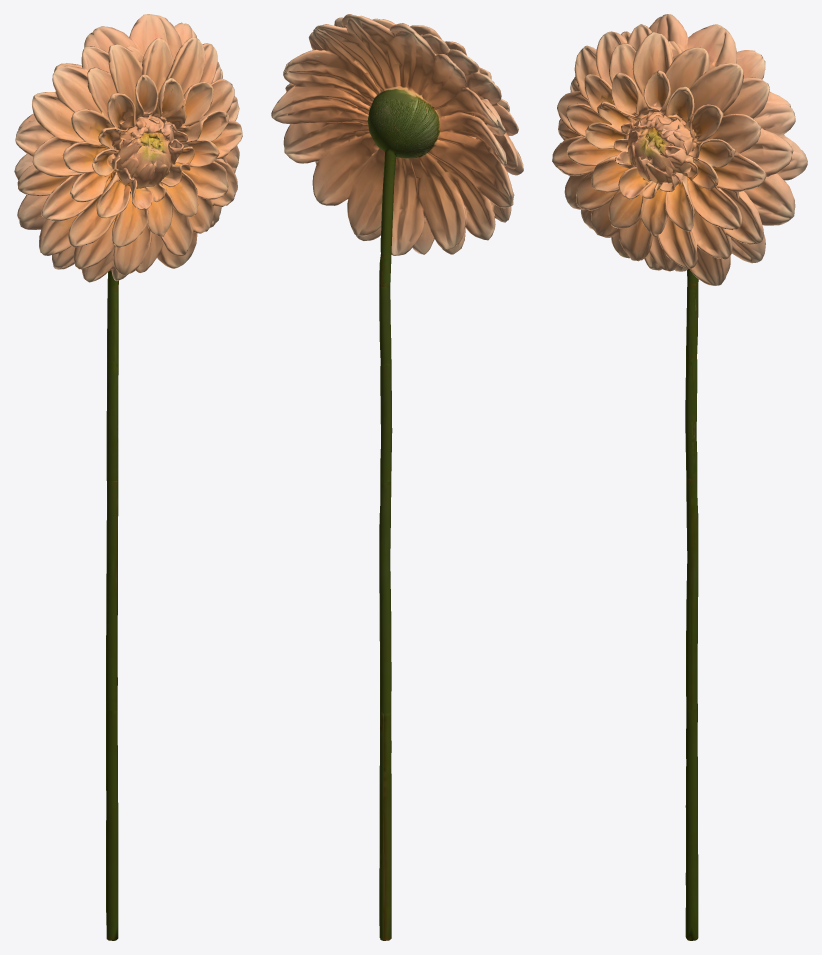
The model's file is coral.glb.
3 views of the same model, side by side, from view 1: azimuth 30°, elevation 25°; view 2: azimuth 150°, elevation 25°; view 3: azimuth 330°, elevation 25° (orthographic).
Bounding box in the file's own units: 0.4967 × 1.9 × 0.1952.
1 material, 1 textured.
